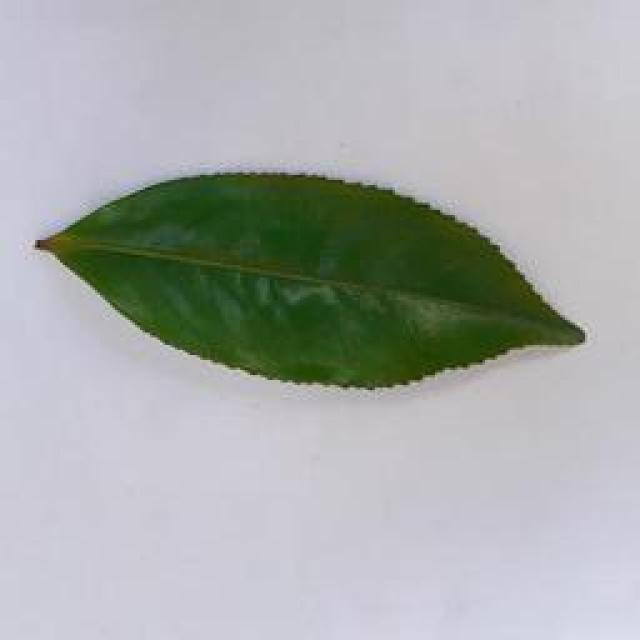Healthy: (37, 166, 587, 407)
